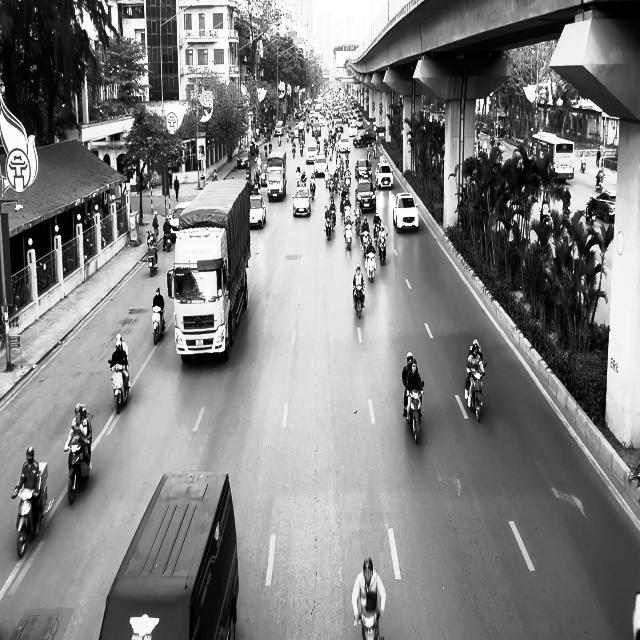bus: (528, 131, 575, 182)
car: (392, 192, 418, 231), (168, 201, 190, 233), (355, 179, 376, 211), (249, 195, 266, 229), (293, 187, 311, 217), (375, 162, 393, 188)
motorbike: (11, 468, 50, 558), (64, 438, 92, 506), (402, 381, 424, 444), (466, 362, 487, 422), (108, 358, 130, 414), (152, 304, 166, 345), (352, 283, 365, 319)
truck: (98, 470, 239, 639), (167, 178, 251, 364)
